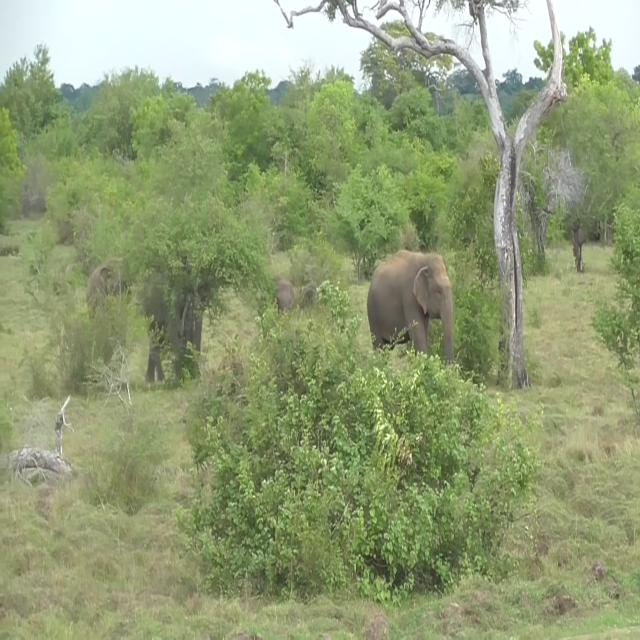Elephant: (367, 248, 454, 365)
